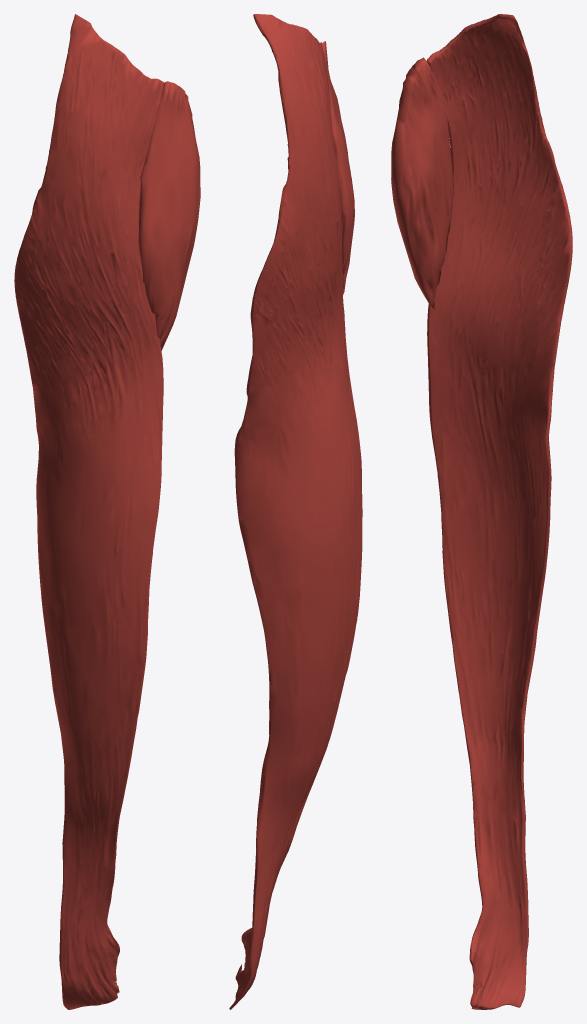
The model's file is musculos-tensor-fasciae-latae-r.glb.
The picture shows the model from 3 angles, left to right: view 1: azimuth 90°, elevation 25°; view 2: azimuth 150°, elevation 25°; view 3: azimuth 270°, elevation 25°; orthographic projection. The views are drawn at different scales.
Parts seen in each view (by area): view 1: Iliotibial tract.r, Tensor fasciae latae.r; view 2: Iliotibial tract.r, Tensor fasciae latae.r; view 3: Iliotibial tract.r, Tensor fasciae latae.r.
Part boxes in pixels (bbox=[...]): Iliotibial tract.r: bbox=[14, 14, 163, 1009]; Tensor fasciae latae.r: bbox=[138, 81, 200, 350]; Iliotibial tract.r: bbox=[229, 14, 362, 1009]; Tensor fasciae latae.r: bbox=[322, 41, 354, 294]; Iliotibial tract.r: bbox=[426, 14, 572, 1009]; Tensor fasciae latae.r: bbox=[391, 57, 453, 309].
Size of the model in its own units: 0.0714 by 0.6053 by 0.1015.
